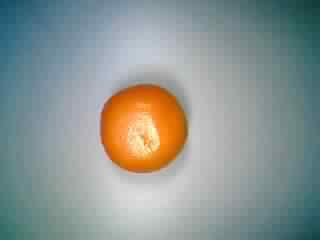orange: (95, 82, 192, 178)
